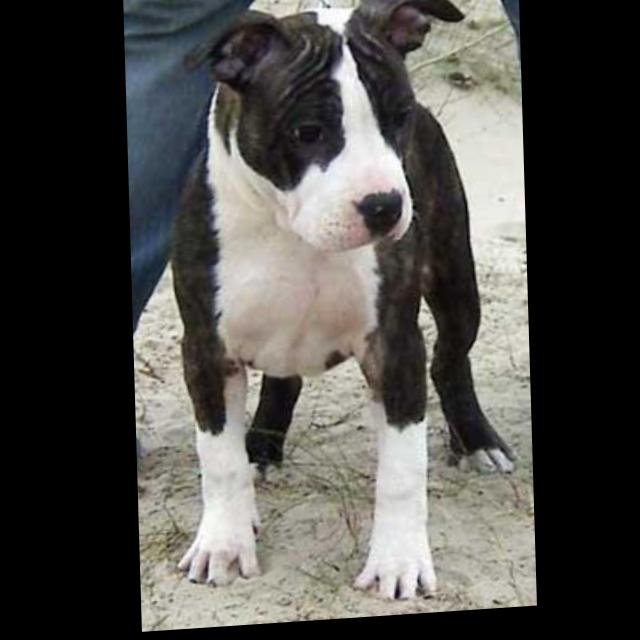amstaff: (158, 1, 519, 619)
